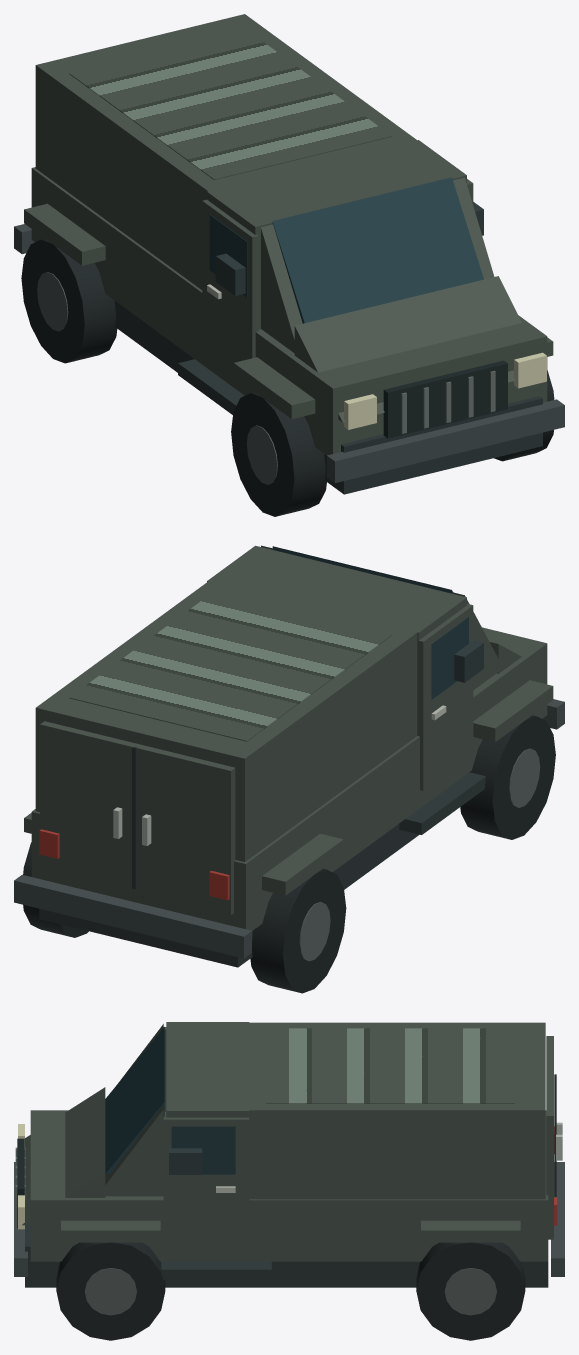
File: CMU3DReduxAU14VehicleCivVan.glb
3 renders of one model, top to bottom at view 1: azimuth 30°, elevation 25°; view 2: azimuth 150°, elevation 25°; view 3: azimuth 270°, elevation 25°, orthographic. The views are drawn at different scales.
Visible parts, largest first — view 1: enclosed rear body, source roof livery, lower vehicle body, windshield, rubber road tire (×2), front hood, cab bulkhead, bumper, sealed chassis, cab door skin, front grille, wheel fender (×2) (+6 smaller); view 2: enclosed rear body, rear double doors, source roof livery, lower vehicle body, rubber road tire (×3), cab bulkhead, bumper, cab door skin, wheel fender (×2), sealed chassis, recessed metal wheel hub (×2), running board (+5 smaller); view 3: enclosed rear body, lower vehicle body, source roof livery, rubber road tire (×2), cab door skin, cab bulkhead, sealed chassis, windshield, wheel fender (×2), front hood, recessed metal wheel hub (×2), sloping cab frame (+6 smaller).
Part boxes in pixels (x1,y1,x2,y2): enclosed rear body: (35,14,424,289); source roof livery: (69,30,391,179); lower vehicle body: (31,167,547,455); windshield: (272,177,483,323); rubber road tire (×2): (21,238,326,516); front hood: (294,276,521,422); cab bulkhead: (207,140,466,329); bumper: (327,399,564,482); sealed chassis: (114,301,542,494); cab door skin: (202,199,258,372); front grille: (383,360,507,438); wheel fender (×2): (24,203,315,418); enclosed rear body: (35,576,417,861); rear double doors: (40,721,235,915); source roof livery: (69,591,391,741); lower vehicle body: (31,627,547,930); rubber road tire (×3): (23,715,555,993); cab bulkhead: (207,545,466,735); bumper: (14,874,251,958); cab door skin: (418,604,473,790); wheel fender (×2): (262,680,553,895); sealed chassis: (39,824,419,967); recessed metal wheel hub (×2): (299,748,540,961); running board: (399,772,485,834); enclosed rear body: (235,1022,545,1199); lower vehicle body: (30,1110,548,1261); source roof livery: (266,1028,514,1103); rubber road tire (×2): (56,1242,525,1340); cab door skin: (163,1117,249,1247); cab bulkhead: (166,1022,249,1117); sealed chassis: (25,1225,548,1287); windshield: (105,1027,164,1173); wheel fender (×2): (61,1220,520,1242); front hood: (22,1087,105,1225); recessed metal wheel hub (×2): (84,1268,496,1315); sloping cab frame: (99,1024,163,1196).
Bounding box in the file's own units: 1.38 × 1.3 × 2.92.
18 materials, 1 textured.
